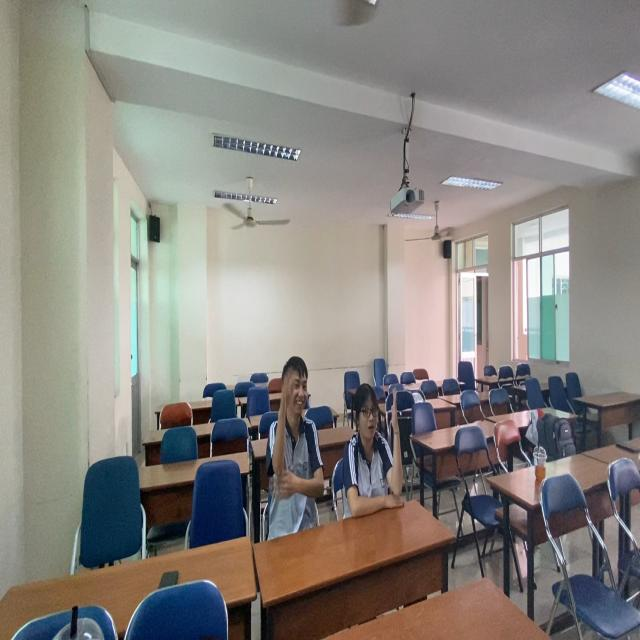raise_hand: (350, 375, 410, 528)
